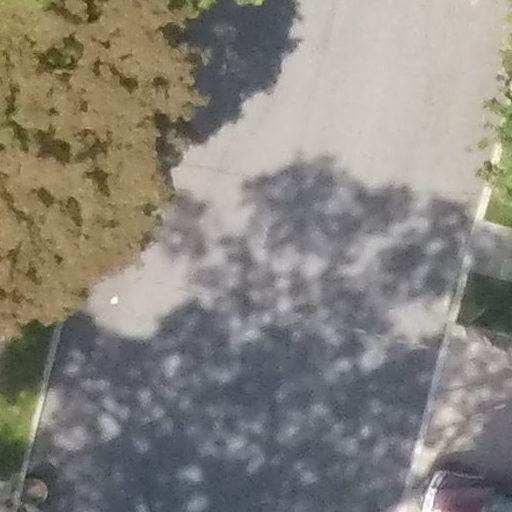street: (30, 3, 512, 509)
